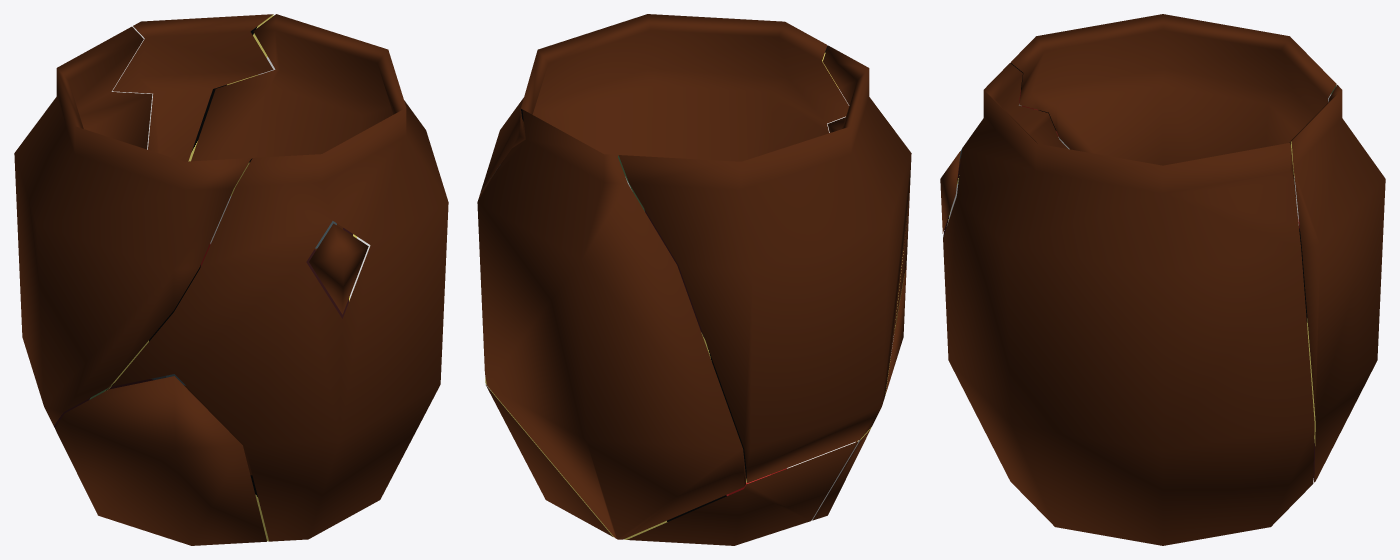
File: BabyPot_Frag.fbx
The picture shows the model from 3 angles, left to right: view 1: azimuth 30°, elevation 25°; view 2: azimuth 150°, elevation 25°; view 3: azimuth 270°, elevation 25°; orthographic projection.
Visible parts, largest first — view 1: Baby_Pot_cell.001, Baby_Pot_cell.004, Baby_Pot_cell, Baby_Pot_cell.002, Baby_Pot_cell.003; view 2: Baby_Pot_cell.002, Baby_Pot_cell.004, Baby_Pot_cell.001, Baby_Pot_cell; view 3: Baby_Pot_cell.001, Baby_Pot_cell.004, Baby_Pot_cell.002, Baby_Pot_cell.003.
Boxes of the visible parts, <box> form: Baby_Pot_cell.001: <box>105,14,448,541</box>; Baby_Pot_cell.004: <box>14,26,251,427</box>; Baby_Pot_cell: <box>55,376,266,545</box>; Baby_Pot_cell.002: <box>111,14,275,161</box>; Baby_Pot_cell.003: <box>309,223,368,314</box>; Baby_Pot_cell.002: <box>477,109,745,539</box>; Baby_Pot_cell.004: <box>618,45,911,483</box>; Baby_Pot_cell.001: <box>480,14,909,545</box>; Baby_Pot_cell: <box>812,263,906,520</box>; Baby_Pot_cell.001: <box>943,63,1314,545</box>; Baby_Pot_cell.004: <box>1010,14,1336,169</box>; Baby_Pot_cell.002: <box>1290,85,1385,482</box>; Baby_Pot_cell.003: <box>940,151,960,233</box>.
Size of the model in its own units: 84.03 by 81.53 by 84.03.
